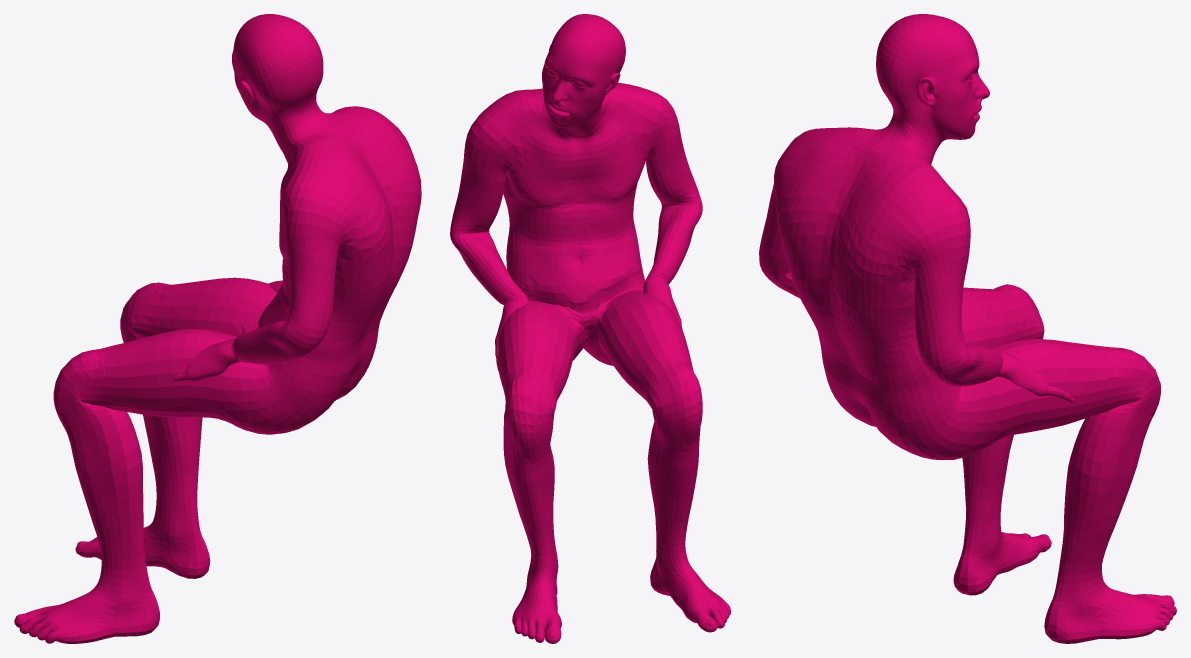
Rendered from pose_original_0.obj.
The picture shows the model from 3 angles, left to right: view 1: azimuth 30°, elevation 25°; view 2: azimuth 150°, elevation 25°; view 3: azimuth 270°, elevation 25°; orthographic projection. The views are drawn at different scales.
Size of the model in its own units: 1.54 by 2.56 by 1.54.
